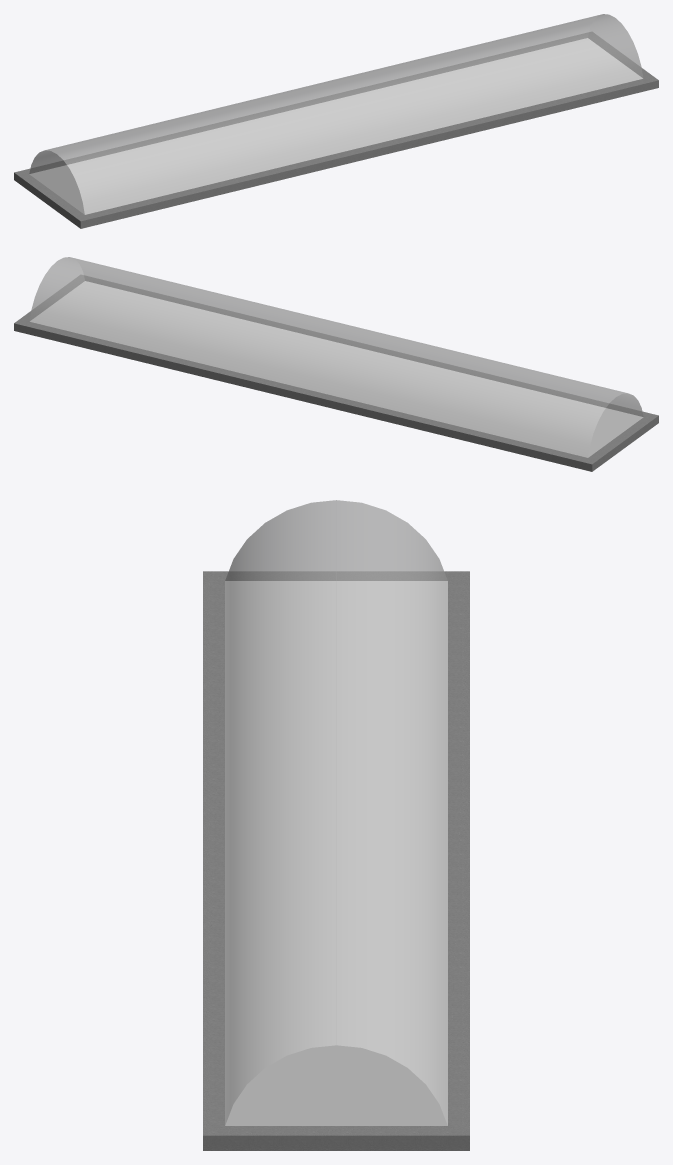
The model's file is swietlik1.glb.
3 renders of one model, top to bottom at view 1: azimuth 30°, elevation 25°; view 2: azimuth 150°, elevation 25°; view 3: azimuth 270°, elevation 25°, orthographic. The views are drawn at different scales.
Parts seen in each view (by area): view 1: 3DGeom-3, 3DGeom-1, 3DGeom-2; view 2: 3DGeom-3, 3DGeom-1, 3DGeom-2; view 3: 3DGeom-3, 3DGeom-1, 3DGeom-2.
Boxes of the visible parts, left/top/right/bottom form: 3DGeom-3: left=29, top=14, right=643, bottom=214; 3DGeom-1: left=29, top=38, right=642, bottom=214; 3DGeom-2: left=14, top=32, right=658, bottom=228; 3DGeom-3: left=29, top=257, right=643, bottom=457; 3DGeom-1: left=30, top=281, right=643, bottom=457; 3DGeom-2: left=14, top=275, right=658, bottom=471; 3DGeom-3: left=225, top=500, right=447, bottom=1125; 3DGeom-1: left=225, top=581, right=447, bottom=1125; 3DGeom-2: left=203, top=571, right=469, bottom=1150.
Size of the model in its own units: 18.27 by 1.45 by 3.66.
Materials: 3 (1 with a texture image).
